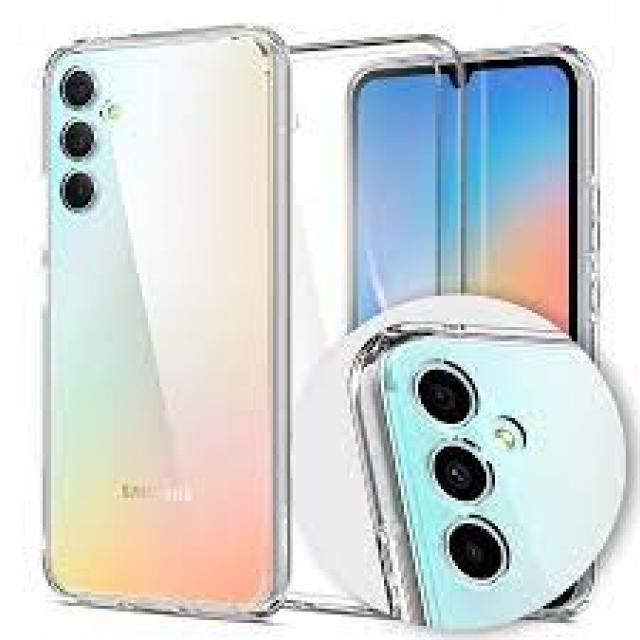Mobile: (35, 22, 286, 618)
